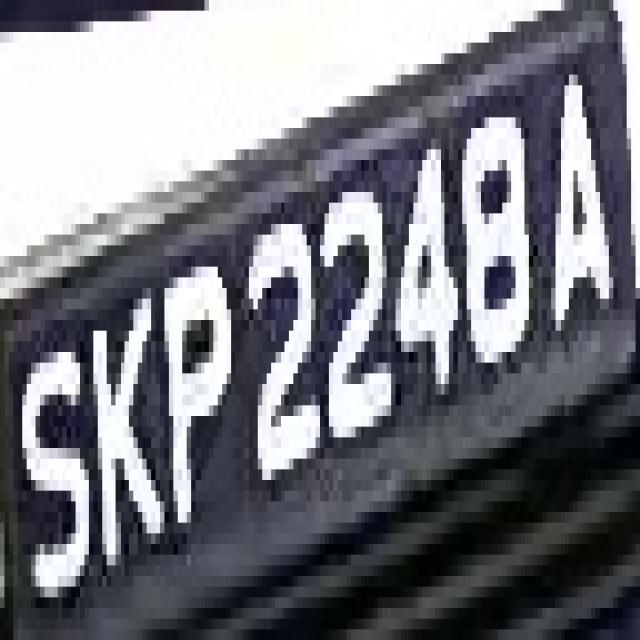2: (235, 203, 334, 533), (307, 171, 400, 469)
4: (369, 128, 453, 405)
8: (458, 85, 546, 374)
A: (538, 42, 626, 362)
K: (76, 245, 160, 587)
P: (160, 245, 244, 576)
S: (18, 309, 89, 619)
